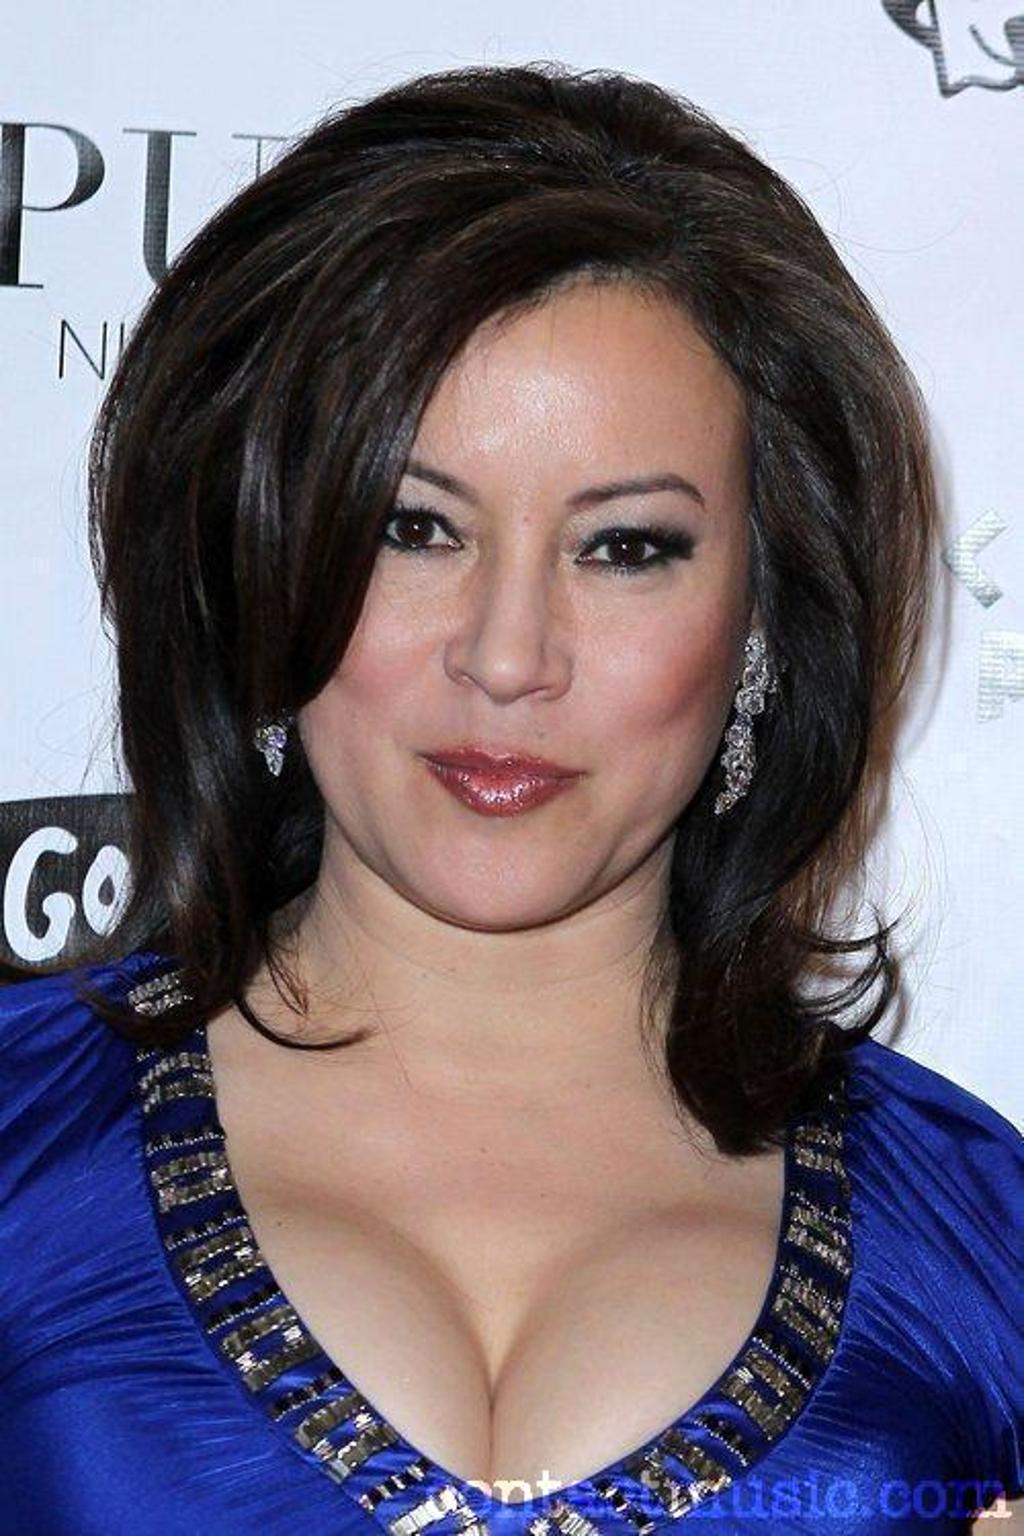face: (306, 282, 756, 931)
